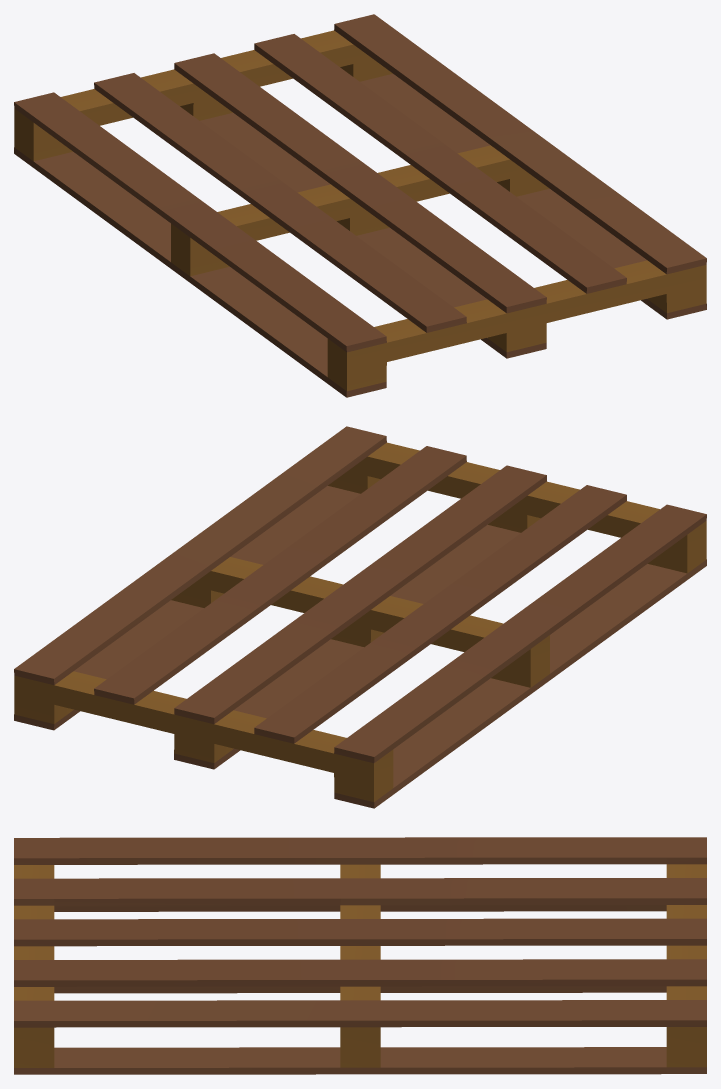
The model's file is Med Single Pallet Dark.fbx.
3 views of the same model, one above another, from view 1: azimuth 30°, elevation 25°; view 2: azimuth 150°, elevation 25°; view 3: azimuth 270°, elevation 25° (orthographic). The views are drawn at different scales.
Visible parts, largest first — view 1: Single Med Pallet Dark; view 2: Single Med Pallet Dark; view 3: Single Med Pallet Dark.
Part boxes in pixels (x1,y1,x2,y2): Single Med Pallet Dark: (14, 14, 706, 397); Single Med Pallet Dark: (14, 426, 706, 808); Single Med Pallet Dark: (14, 837, 706, 1074).
Bounding box in the file's own units: 44.54 × 514 × 322.
1 material, 1 textured.
